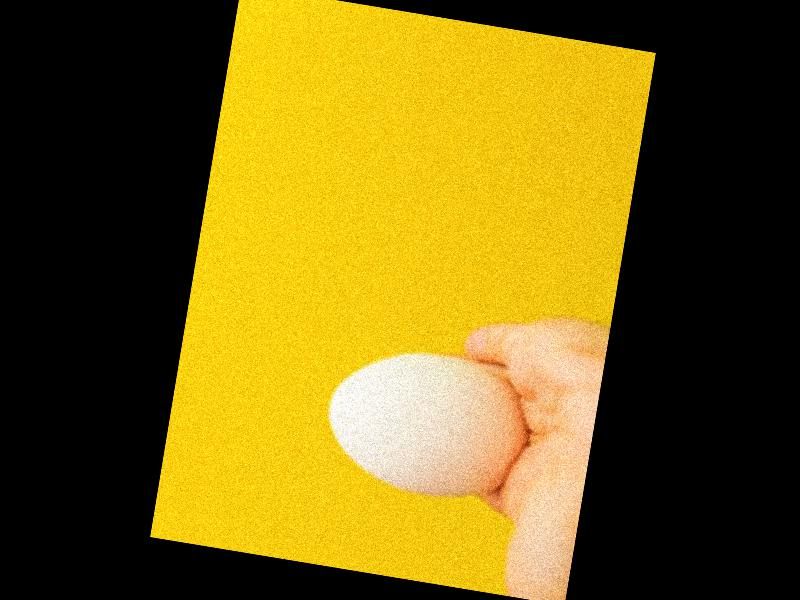Eggs: (317, 338, 536, 503)
